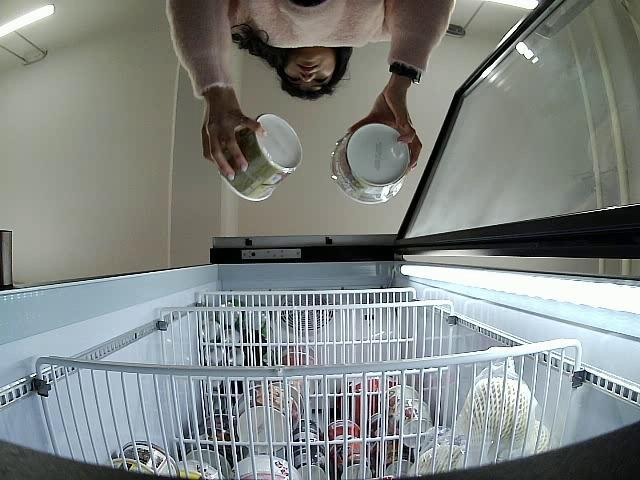03_chapagetti_L: (212, 114, 304, 201), (330, 124, 411, 204)
